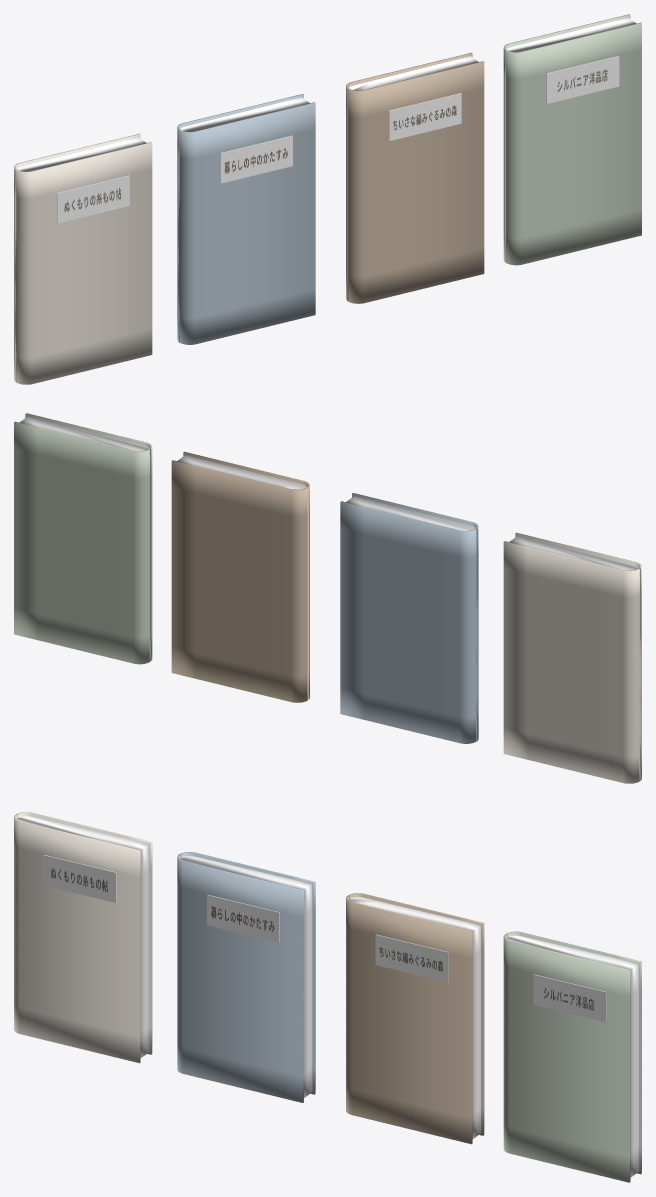
The model's file is category.glb.
3 views of the same model, one above another, from view 1: azimuth 30°, elevation 25°; view 2: azimuth 150°, elevation 25°; view 3: azimuth 330°, elevation 25° (orthographic).
Visible parts, largest first — view 1: s-book, t-book, k-book, n-book; view 2: s-book, t-book, k-book, n-book; view 3: s-book, k-book, t-book, n-book.
Part boxes in pixels (<box>): s-book: <box>503,14,641,265</box>; t-book: <box>346,52,484,303</box>; k-book: <box>177,94,315,344</box>; n-book: <box>14,133,152,384</box>; s-book: <box>14,413,152,664</box>; t-book: <box>171,451,309,702</box>; k-book: <box>340,493,478,743</box>; n-book: <box>503,532,641,783</box>; s-book: <box>503,931,641,1182</box>; k-book: <box>177,852,315,1102</box>; t-book: <box>346,893,484,1144</box>; n-book: <box>14,812,152,1063</box>.
Bounding box in the file's own units: 0.8566 × 0.28 × 0.0313.
9 materials, 4 textured.
